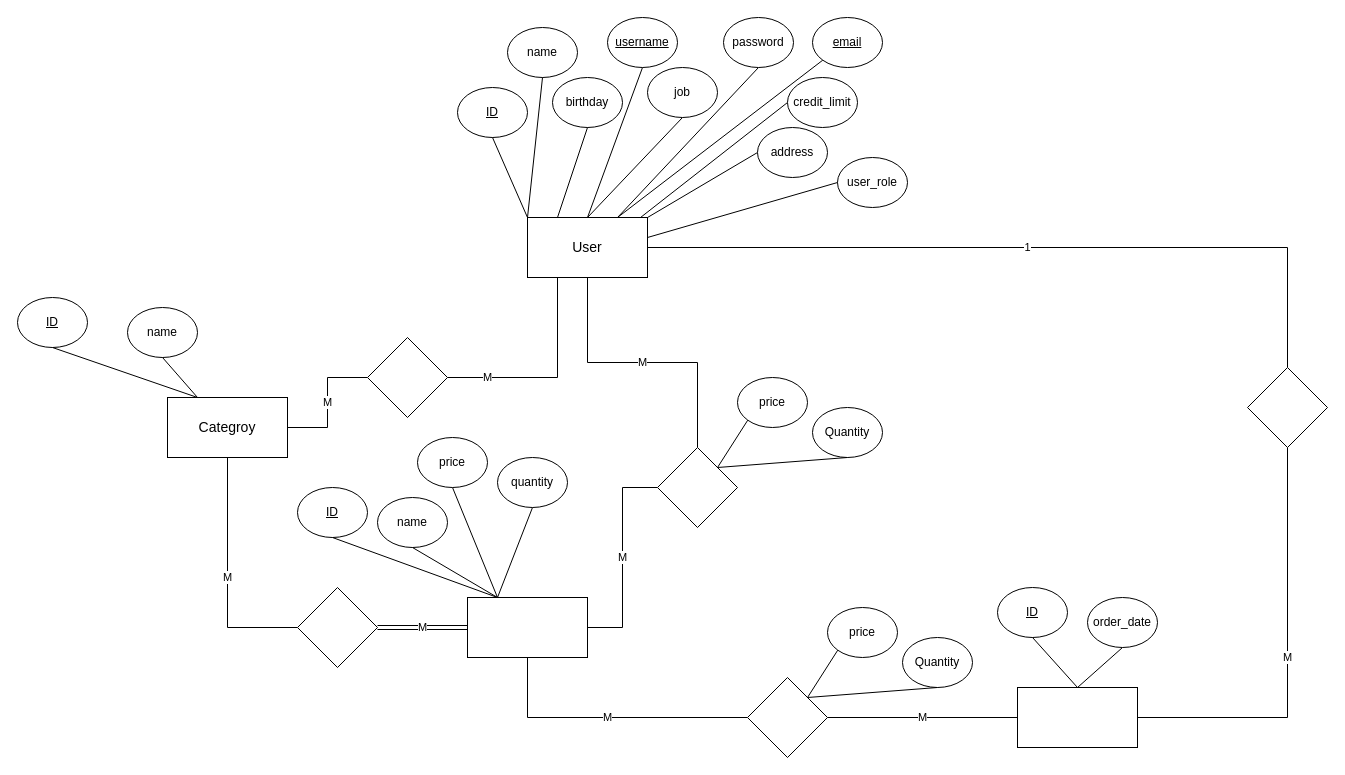
Some shapes in this 1345 by 775 pixel diagram are drawn without their labels. Each missing label, with the box of its shape:
Contain: (746, 676, 828, 758)
has: (296, 586, 378, 668)
interests: (366, 336, 448, 418)
Order: (1016, 686, 1138, 748)
Product: (466, 596, 588, 658)
purchace: (1246, 366, 1328, 448)
UserCart: (656, 446, 738, 528)
